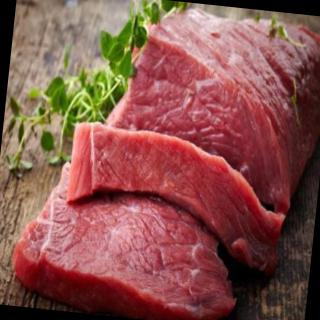Daging Sapi: (8, 1, 320, 320), (99, 3, 320, 216), (8, 157, 250, 320), (60, 123, 294, 278)
